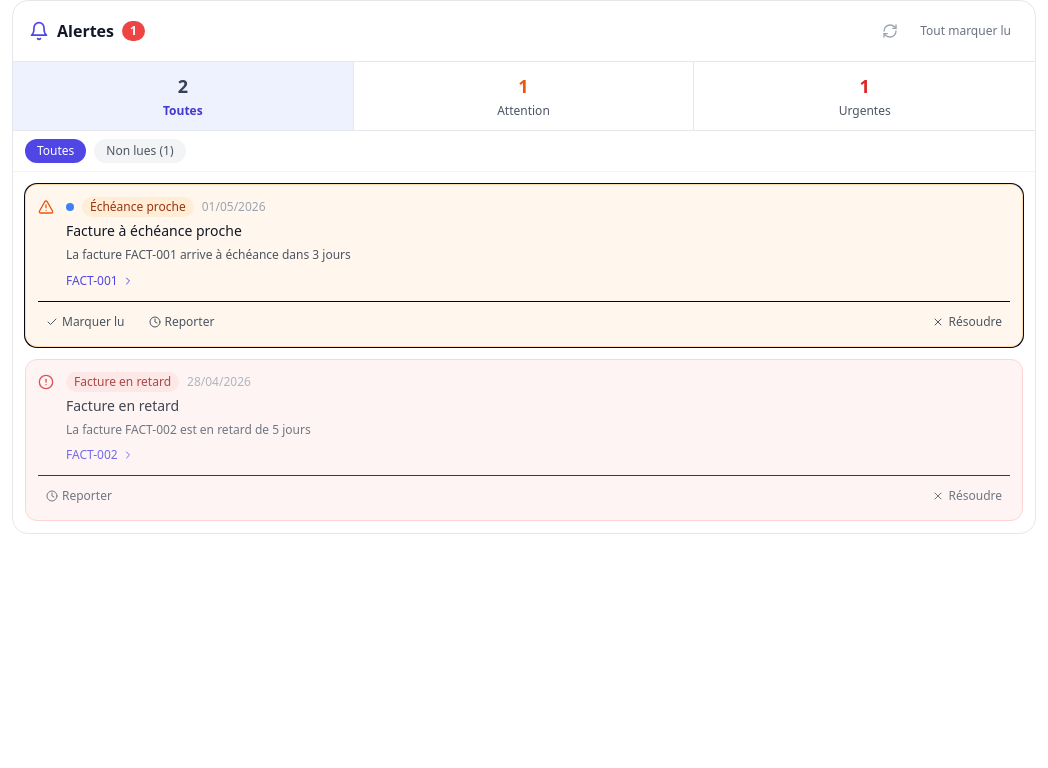
Test: AlertsPanel › should filter alerts by status
Click the button "Non lues (1)" at (140, 151), box [94, 139, 186, 163]
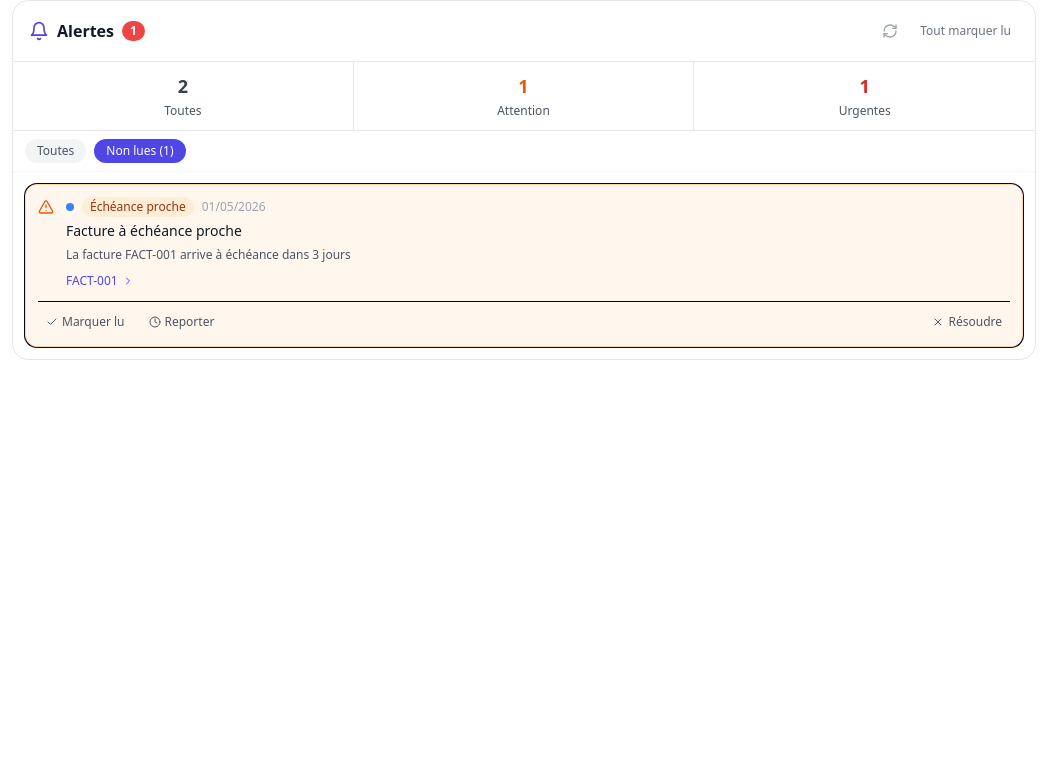
Expected: the text "Facture à échéance proche" is shown, [66, 221, 242, 240]
Now the text "Facture en retard" is gone
